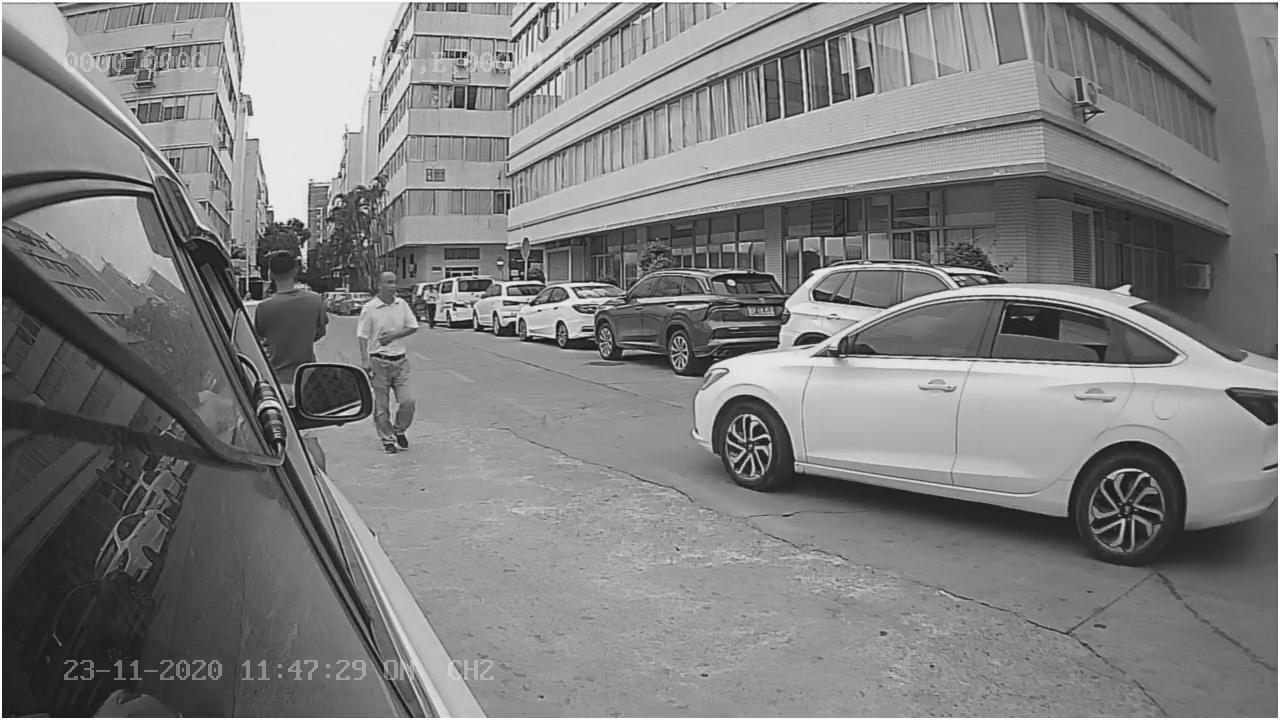person: (358, 257, 425, 354)
